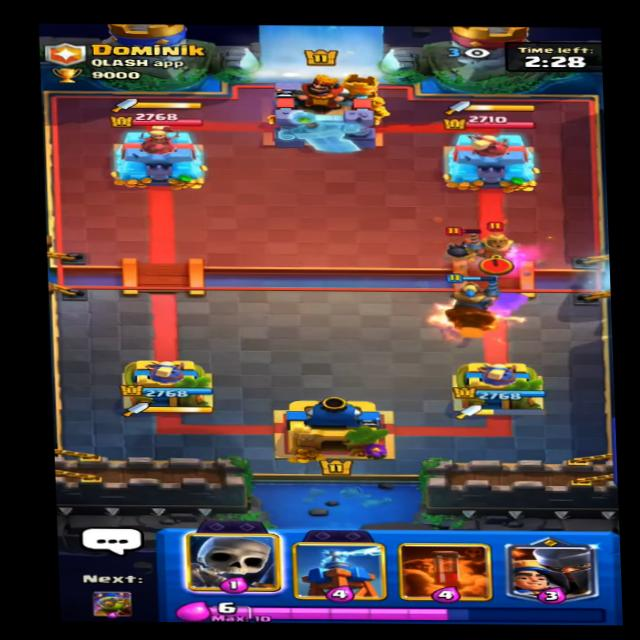bomber: (441, 223, 493, 264)
prince: (472, 218, 530, 269)
